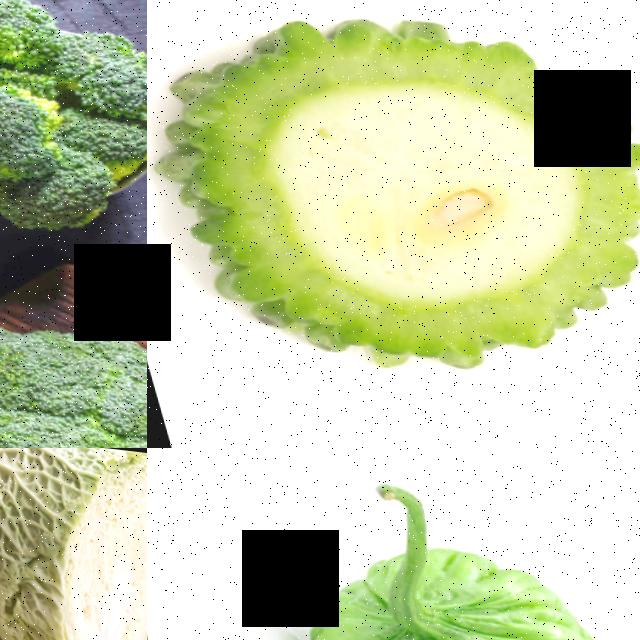bitter gourd: (147, 0, 640, 448), (244, 458, 640, 640)
broccoli: (0, 278, 147, 448), (35, 10, 147, 171), (0, 62, 68, 199), (0, 0, 54, 77)
cabbage: (0, 448, 147, 640)
